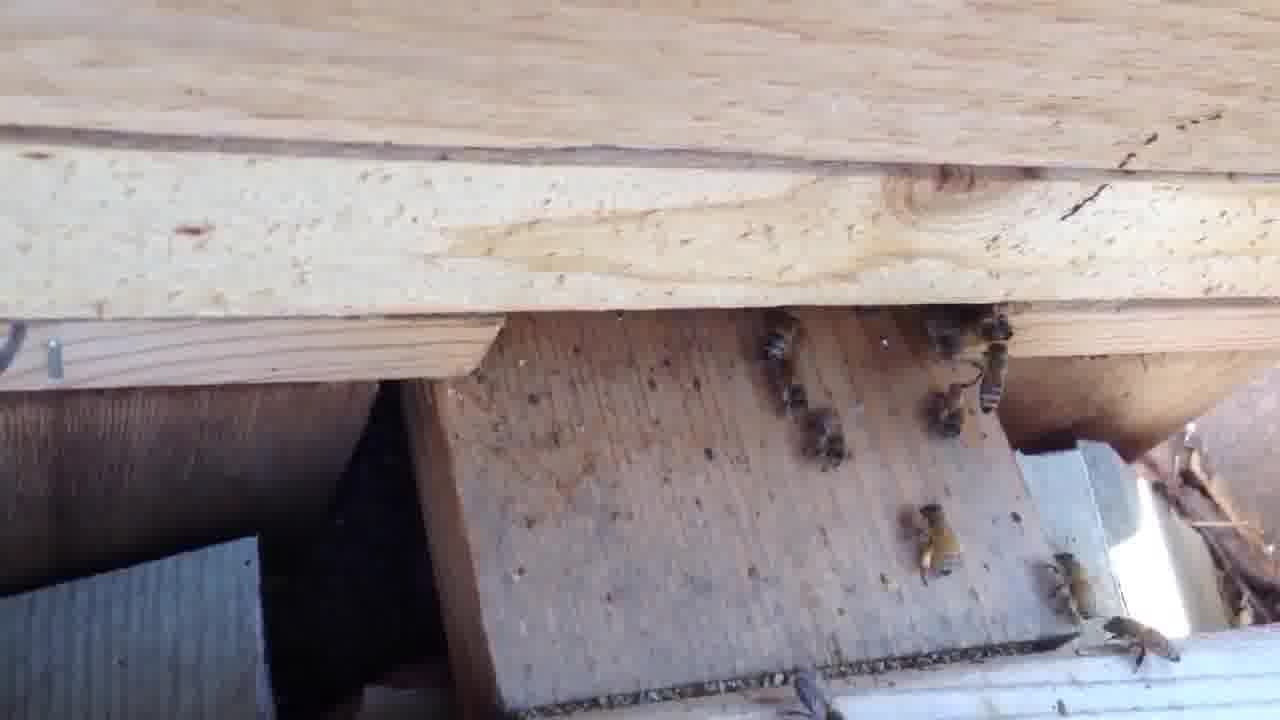pollen: (905, 500, 965, 580)
